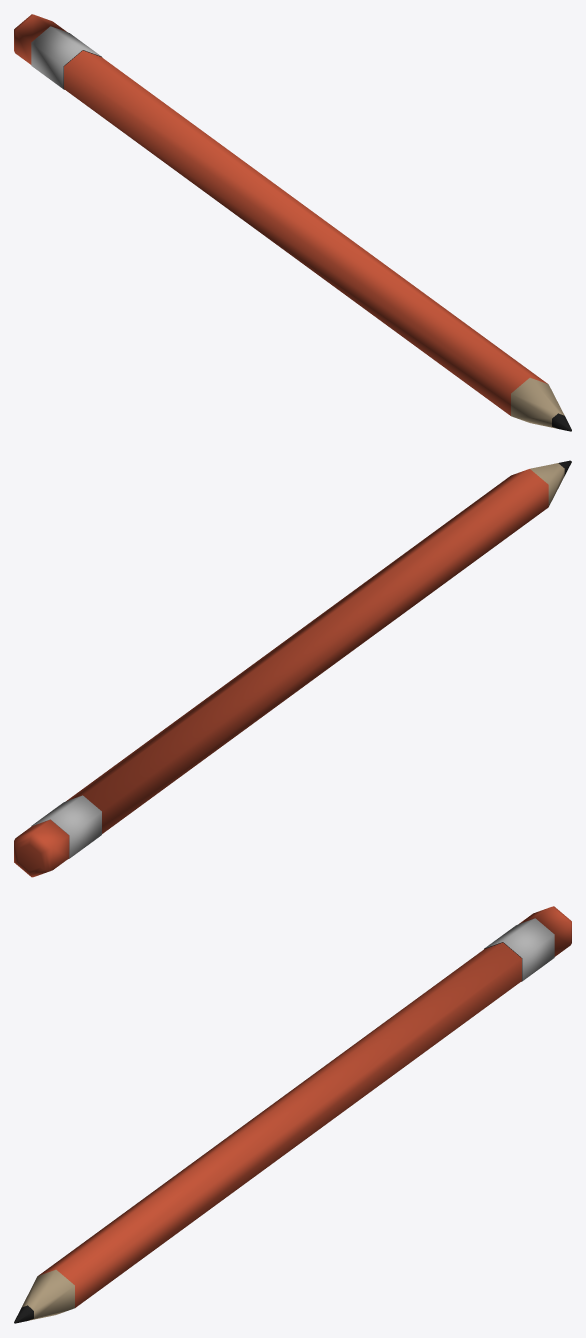
Rendered from Crayon.glb.
3 renders of one model, top to bottom at view 1: azimuth 30°, elevation 25°; view 2: azimuth 150°, elevation 25°; view 3: azimuth 330°, elevation 25°, orthographic.
Parts seen in each view (by area): view 1: crayon; view 2: crayon; view 3: crayon.
Boxes of the visible parts, x1,y1,x2,y2 form: crayon: [14, 14, 571, 431]; crayon: [14, 460, 571, 877]; crayon: [14, 906, 571, 1323].
Size of the model in its own units: 2.19 by 2.52 by 53.26.
